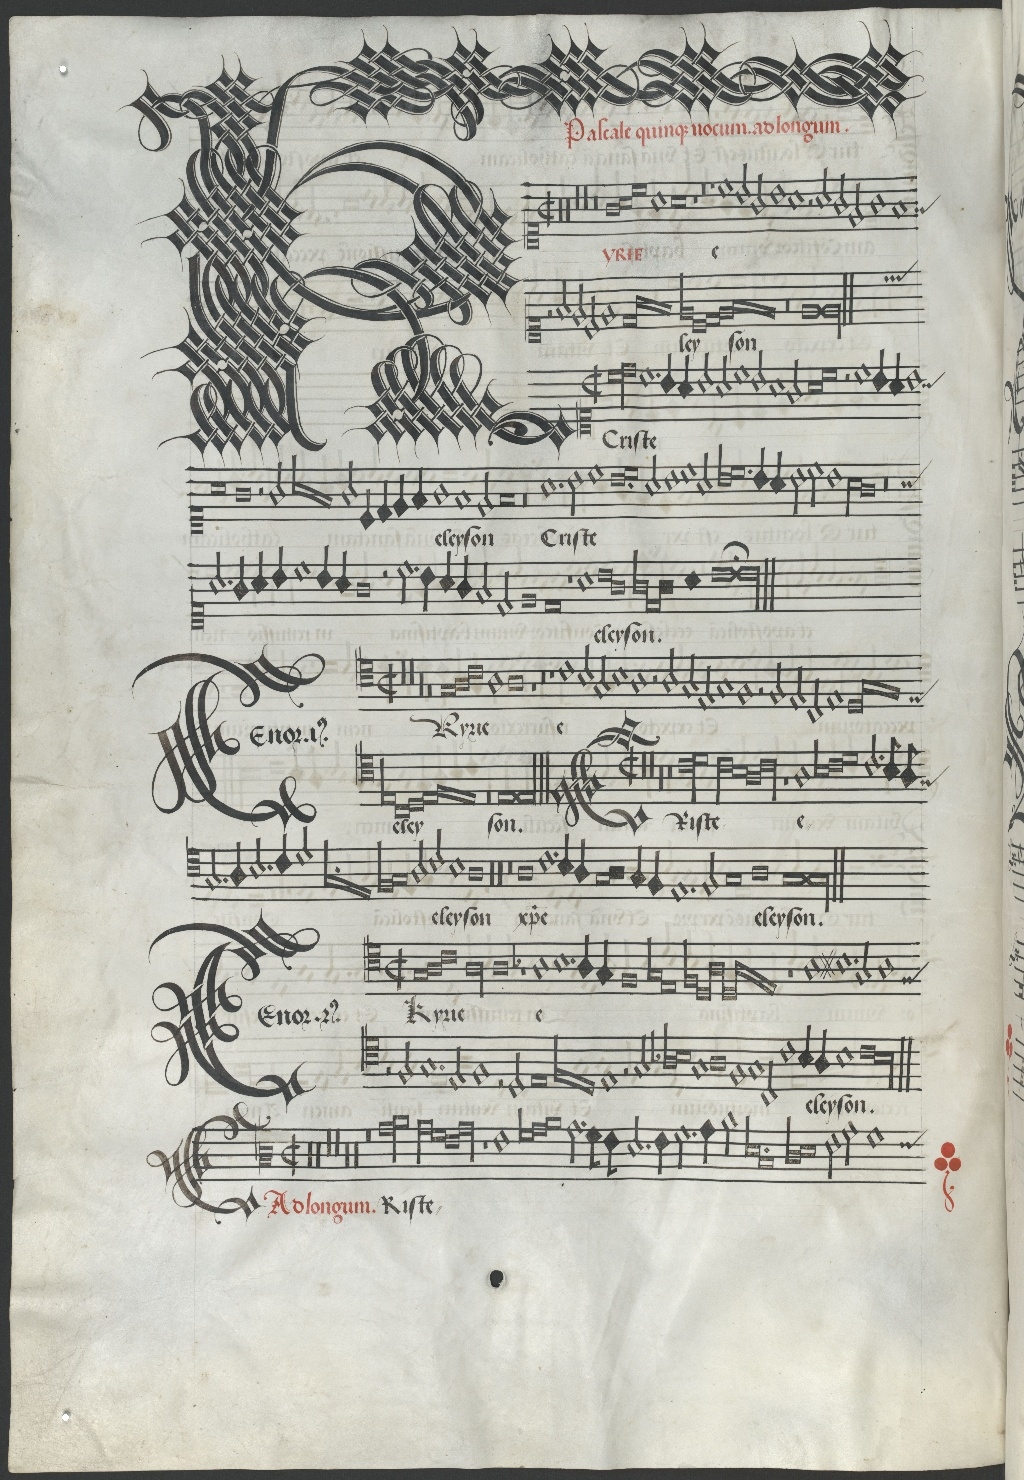barline: (830, 837, 849, 911)
breve rest: (504, 839, 516, 904)
breve_7: (745, 855, 773, 890), (513, 857, 537, 890), (463, 857, 486, 888)
breve_8: (721, 863, 746, 895)
c clef_5: (180, 829, 203, 891)
l1breve_8: (593, 867, 611, 891)
l1semibreve_9: (372, 836, 393, 897)
l2colored breve_7: (605, 858, 625, 885)
l2semibreve_8: (390, 867, 409, 892)
longa rest: (484, 837, 498, 906), (493, 840, 507, 905)
longa_8: (781, 867, 832, 918)
minim_4: (294, 818, 315, 875)
minim_5: (427, 821, 446, 879)
minim_6: (248, 830, 266, 888)
minim_7: (411, 833, 429, 892)
minim_8: (203, 842, 223, 900)
minim_9: (699, 842, 721, 905)
o1semibreve_8: (317, 833, 339, 903)
o2semibreve_10: (339, 831, 375, 909)
point: (328, 860, 344, 885), (260, 855, 277, 877), (215, 869, 230, 891), (546, 843, 561, 865), (687, 879, 699, 902)
semibreve_10: (667, 872, 689, 911)
semibreve_5: (534, 841, 554, 879)
semibreve_6: (445, 848, 466, 886)
semiminim_5: (275, 820, 294, 884)
semiminim_6: (558, 825, 574, 884)
semiminim_7: (228, 834, 248, 896), (574, 831, 592, 892)
semiminim_8: (628, 838, 643, 897)
semiminim_9: (647, 842, 667, 903)
